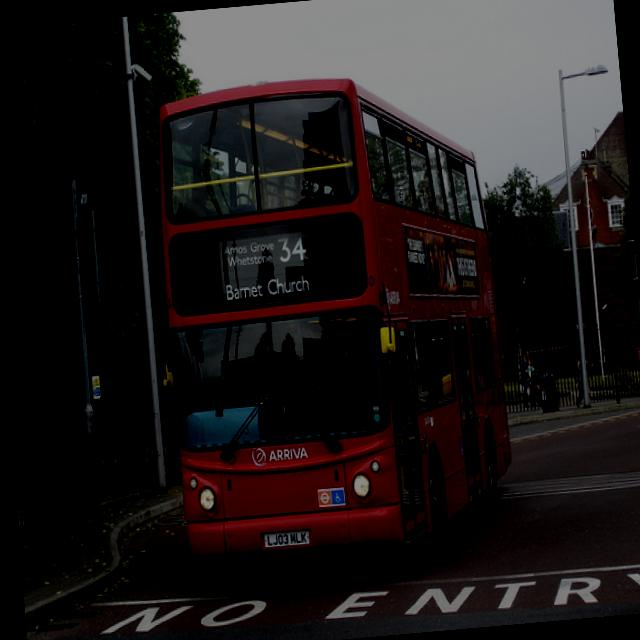Vehicle: (135, 62, 520, 572)
